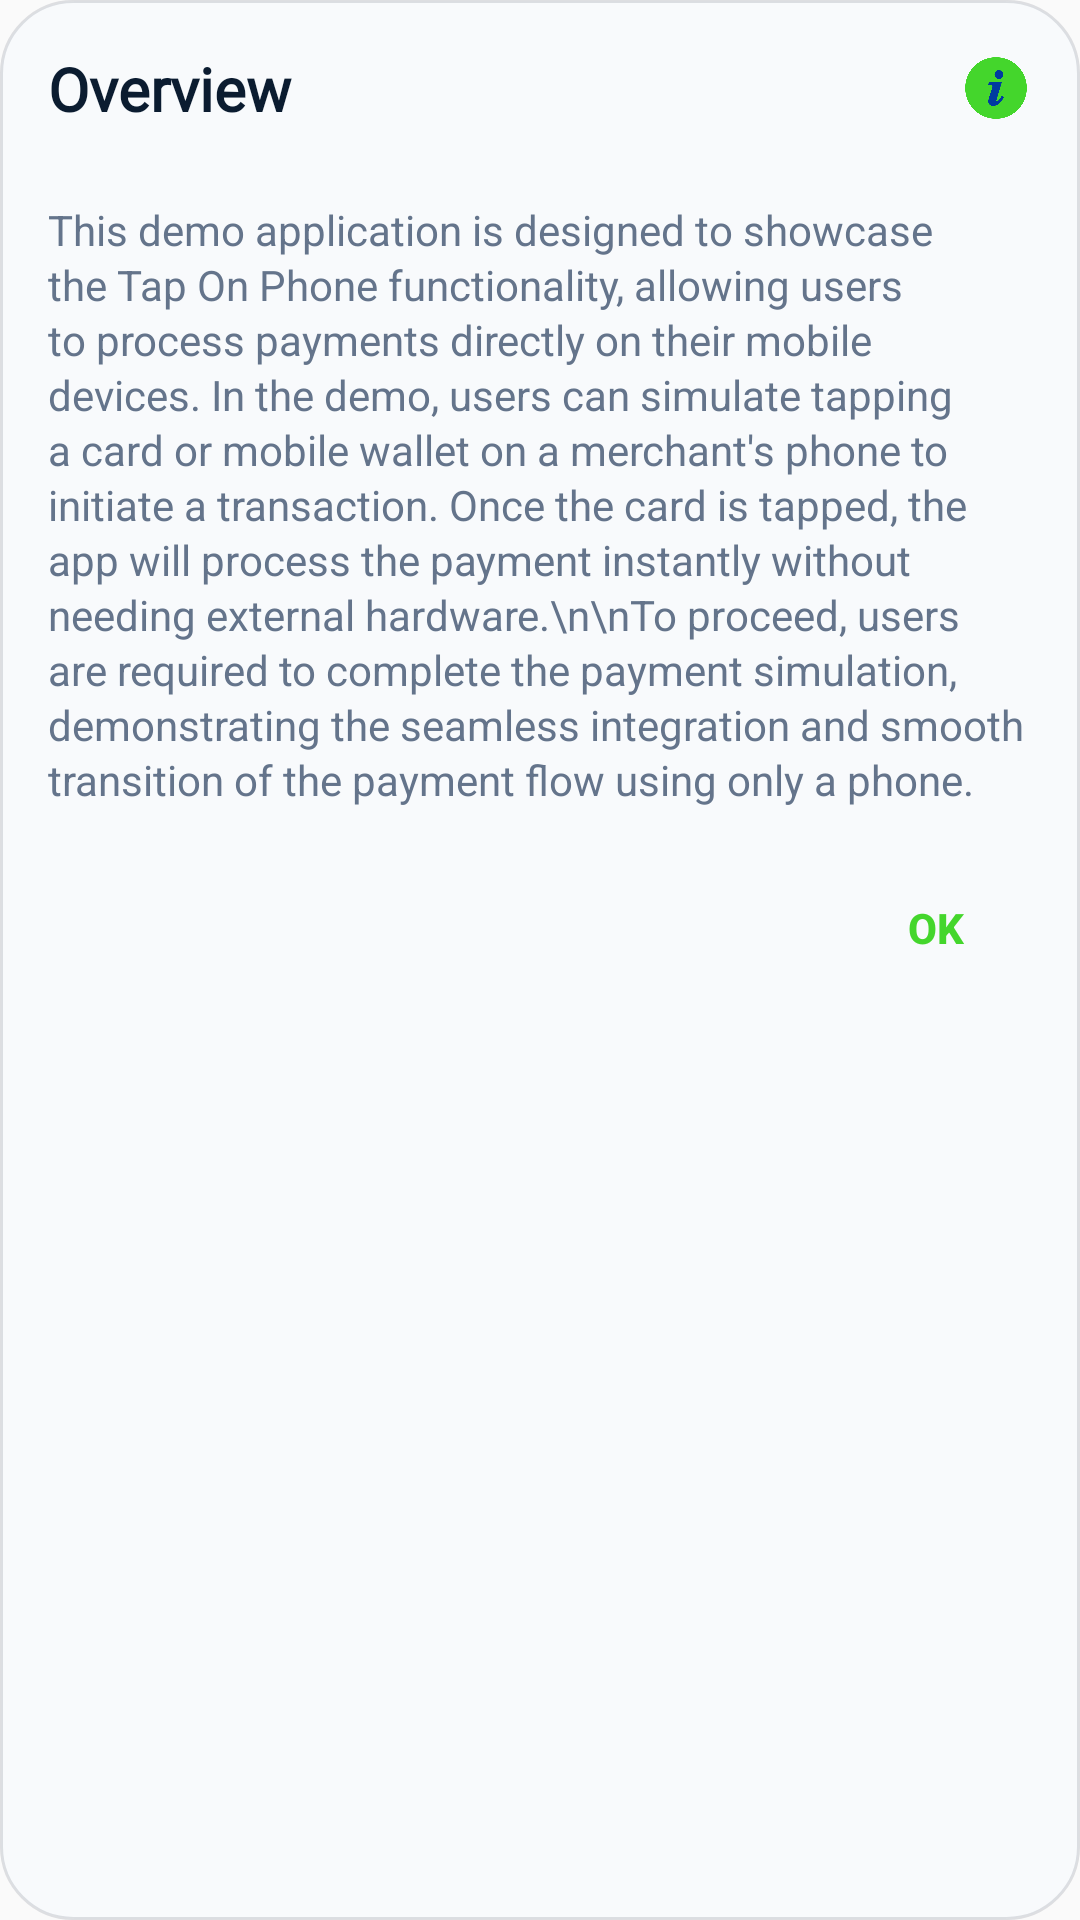

Screen size 1080px×1920px. Icon name, then its center in pixels as (x=x, y=y):
info: (x=996, y=88)
